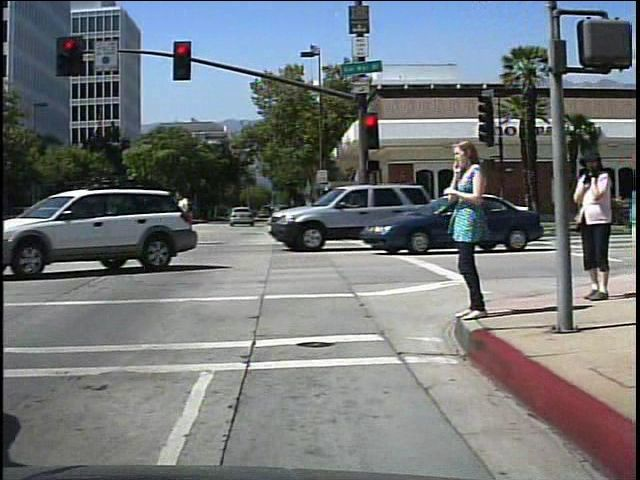person: (443, 130, 497, 321), (568, 144, 615, 306)
